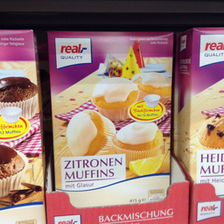cake: (46, 30, 175, 204)
